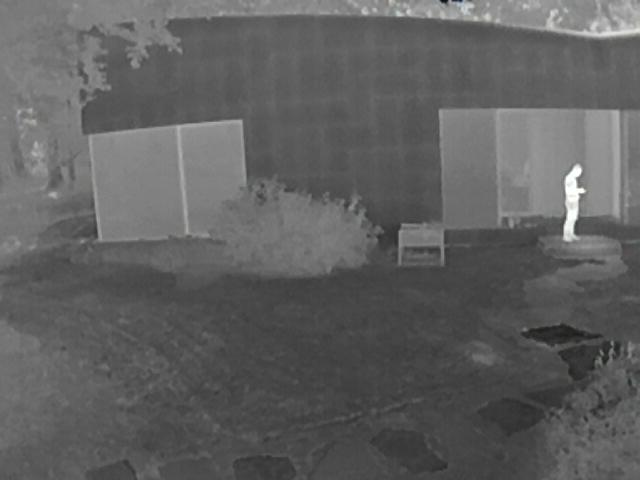person: (560, 163, 586, 244)
